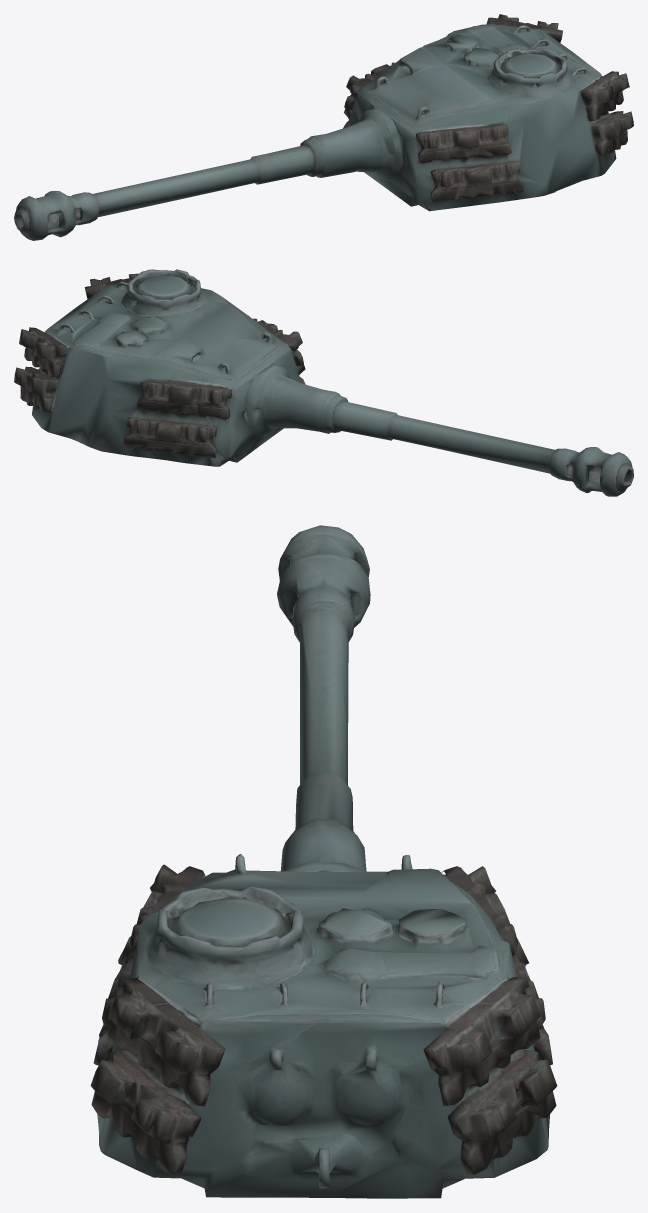
Rendered from tank-kingtiger-turret.glb.
3 views of the same model, one above another, from view 1: azimuth 30°, elevation 25°; view 2: azimuth 150°, elevation 25°; view 3: azimuth 270°, elevation 25° (orthographic). The views are drawn at different scales.
Visible parts, largest first — view 1: Mesh_0; view 2: Mesh_0; view 3: Mesh_0.
Part boxes in pixels (x1=…): Mesh_0: x1=14, y1=14, x2=633, y2=240; Mesh_0: x1=14, y1=269, x2=633, y2=496; Mesh_0: x1=90, y1=525, x2=557, y2=1198.
Bounding box in the file's own units: 1.9 × 0.3444 × 0.6614.
1 material, 1 textured.
